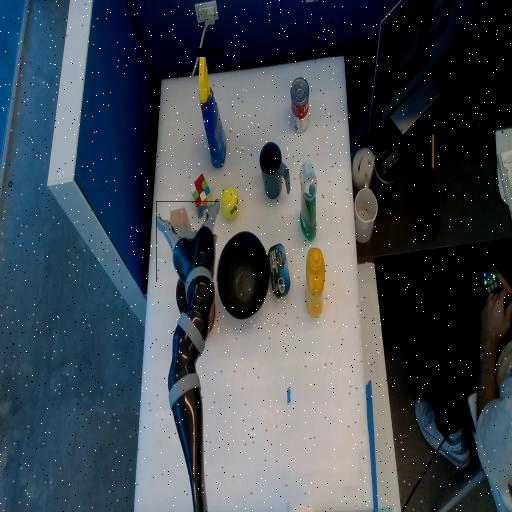bowl: (217, 250, 268, 302)
cleanser: (300, 161, 316, 241)
coffee_can: (176, 267, 214, 338)
jaco: (157, 202, 219, 282)
meat_can: (267, 261, 289, 282)
mug: (259, 143, 289, 199)
mustard_bottle: (305, 249, 324, 317)
rubik: (190, 185, 212, 207)
soup_can: (290, 78, 308, 133)
tennis_ball: (221, 195, 238, 212)
windex: (197, 96, 225, 118)
wooden_block: (170, 219, 195, 244)
workspace: (135, 57, 372, 509)
